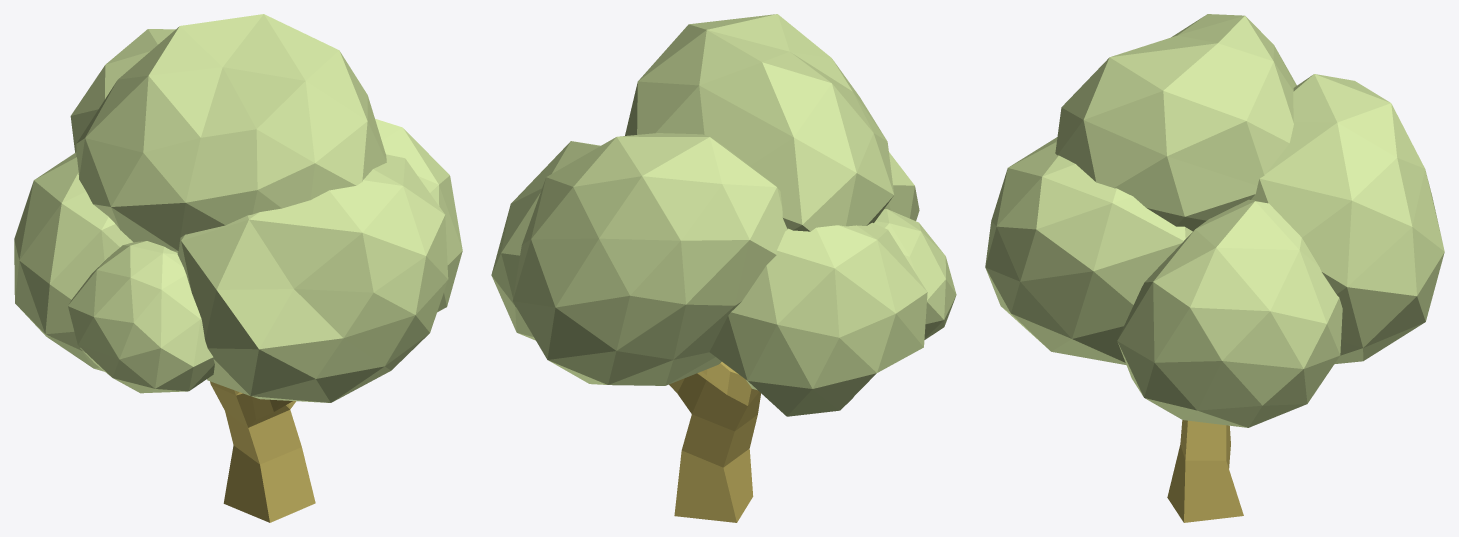
The model's file is OakTreeLightGreen3.fbx.
3 renders of one model, left to right at view 1: azimuth 30°, elevation 25°; view 2: azimuth 150°, elevation 25°; view 3: azimuth 270°, elevation 25°, orthographic. The views are drawn at different scales.
Parts seen in each view (by area): view 1: OakTree3; view 2: OakTree3; view 3: OakTree3.
Boxes of the visible parts, x1,y1,x2,y2 form: OakTree3: (14,14,462,522); OakTree3: (491,14,956,522); OakTree3: (985,14,1444,522).
Bounding box in the file's own units: 1382 × 1584 × 1423.
